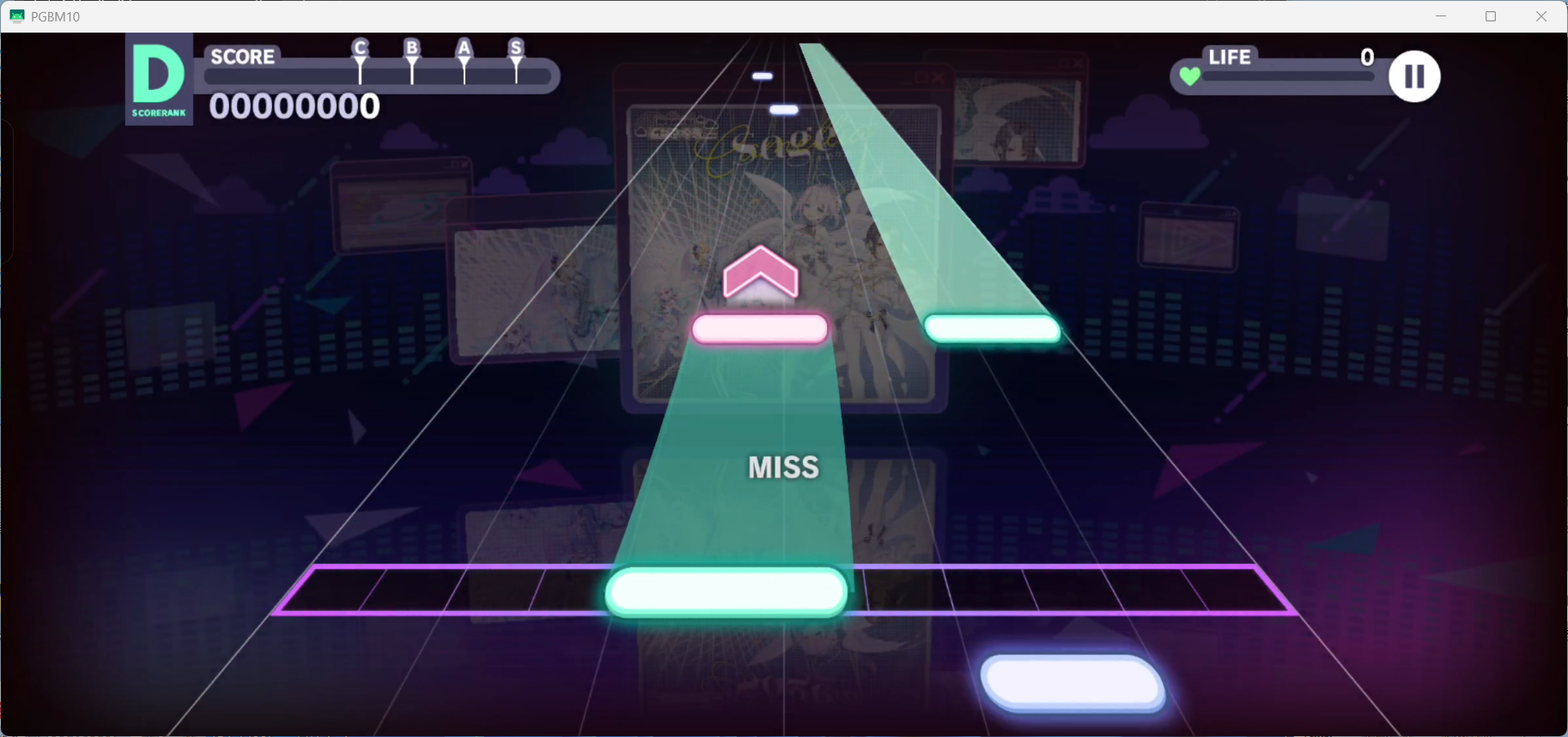flick: (721, 239, 798, 307)
hold: (799, 43, 1051, 312), (622, 346, 847, 571)
tap: (605, 566, 848, 618), (981, 655, 1165, 713), (924, 313, 1062, 346), (691, 313, 827, 343), (769, 104, 798, 115), (752, 72, 773, 81)
